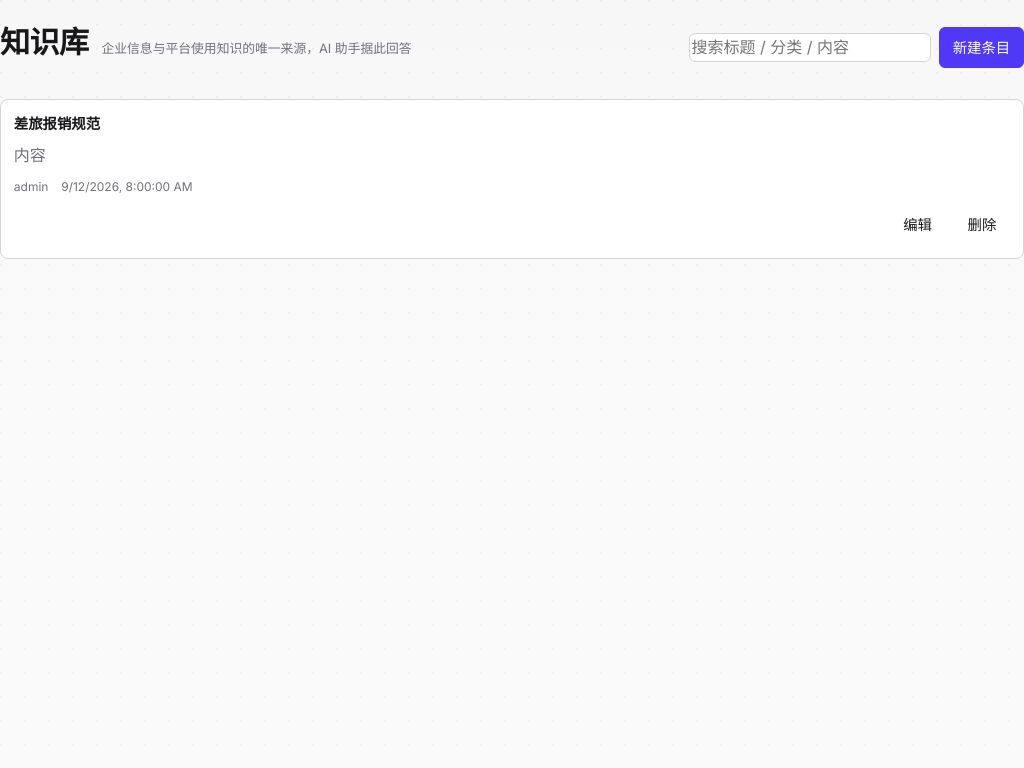
KnowledgeView 失败呈现与删除（P28，FR-KB-04） › 保存失败留在抽屉内呈现服务端消息
Click the button with test id "kb-create" at (981, 48), box [939,27,1023,68]
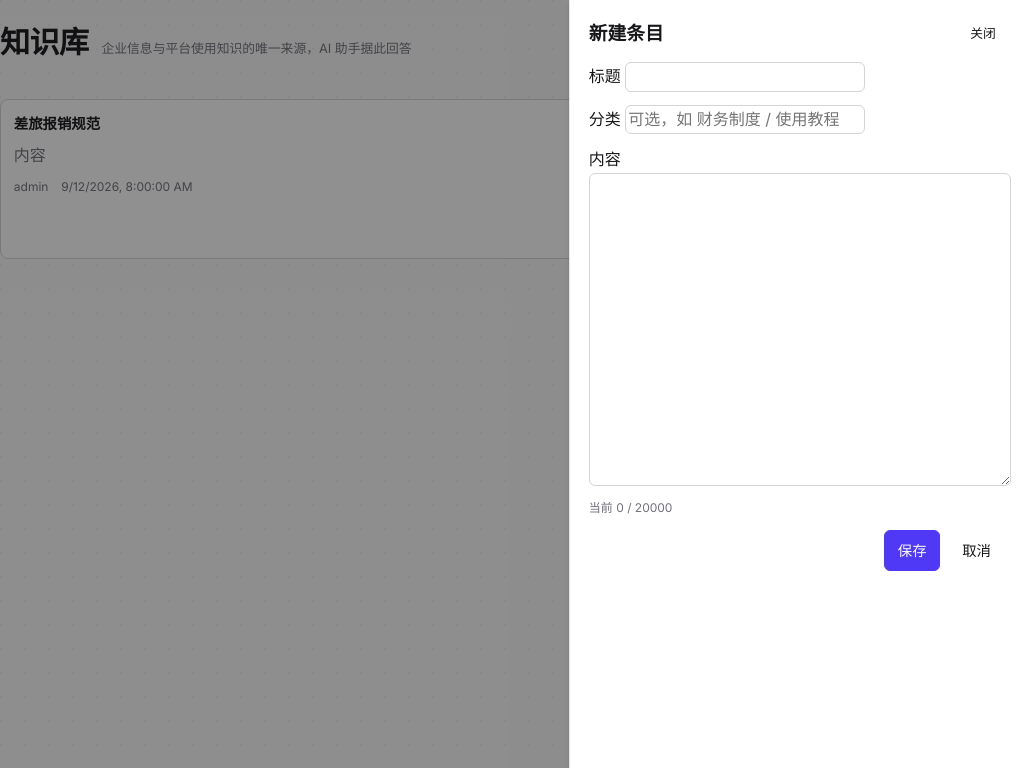
Type "超限标题" into the field with test id "kb-entry-title" at (745, 77), box [625,62,865,92]
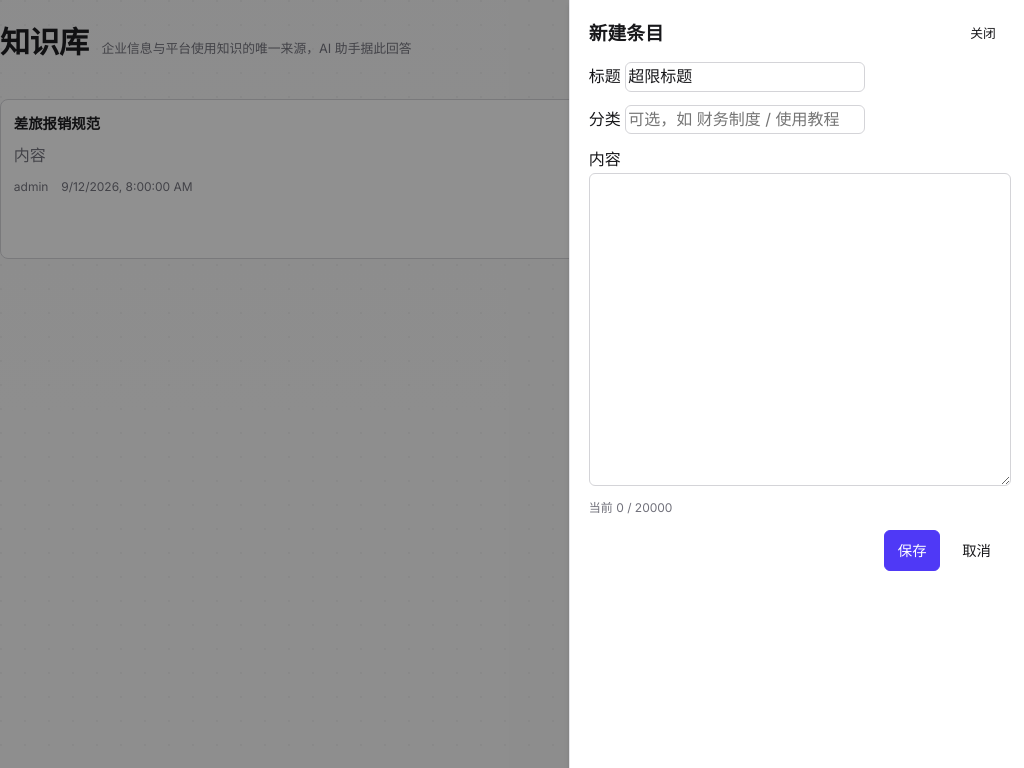
Type "内容" into the text box with test id "kb-entry-content" at (800, 329), box [589,173,1011,486]
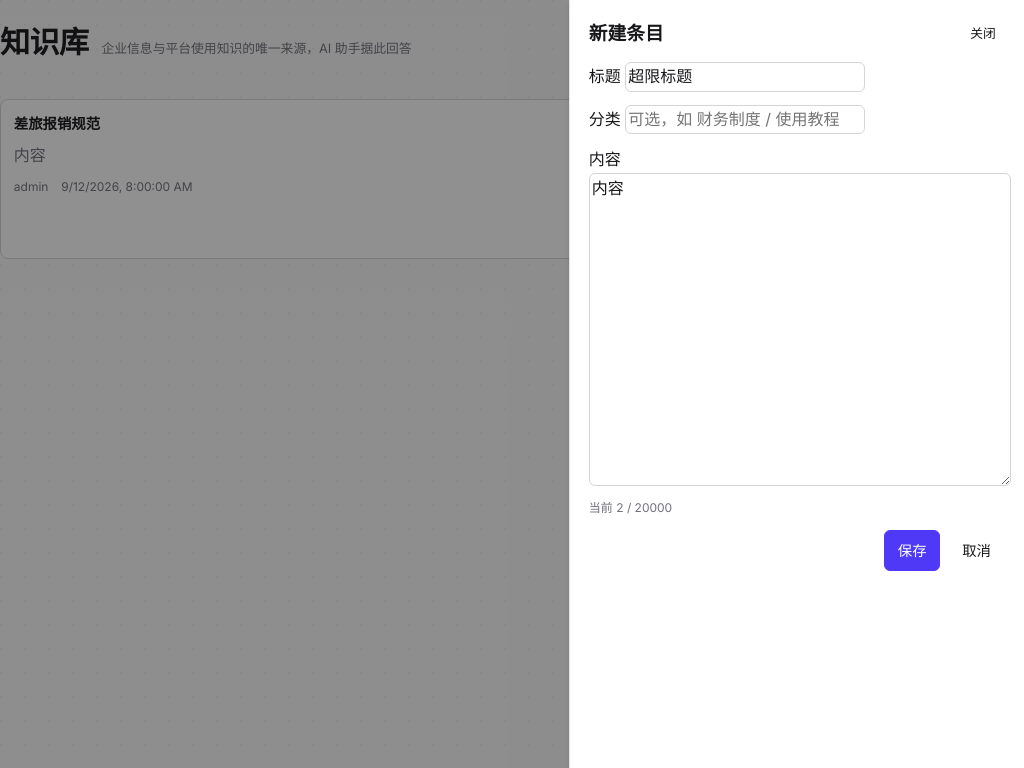
Submit the form with test id "kb-entry-form", box [589,62,1005,571]
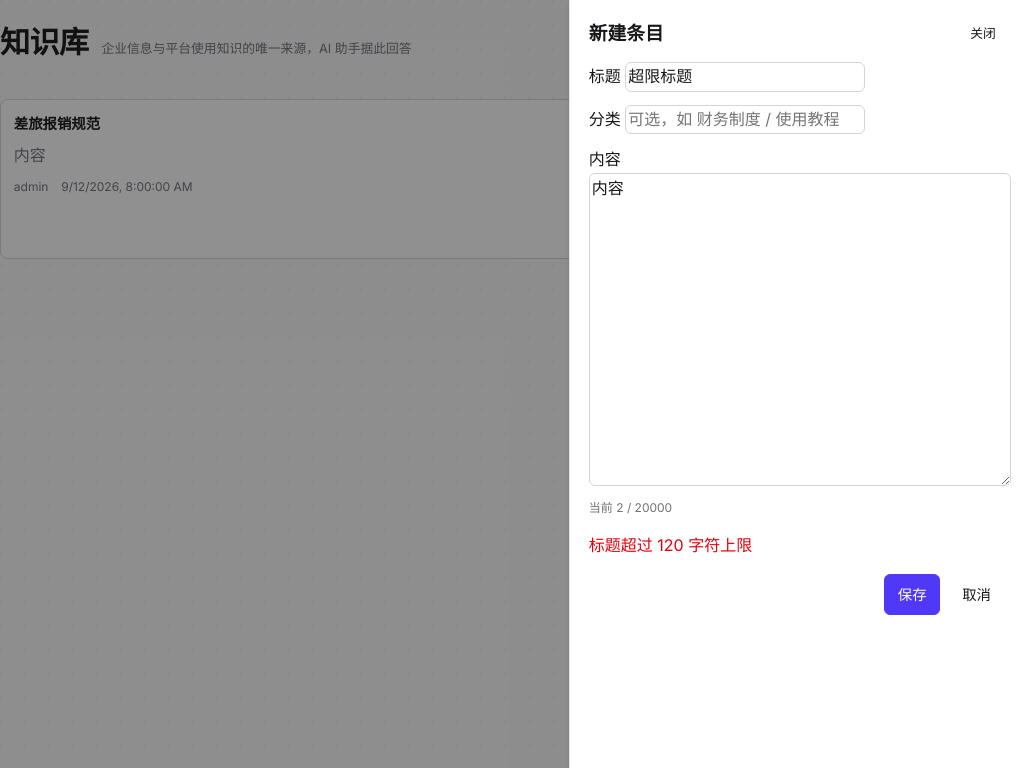
Result: the text "标题超过 120 字符上限" is shown at [589,535,752,555]
